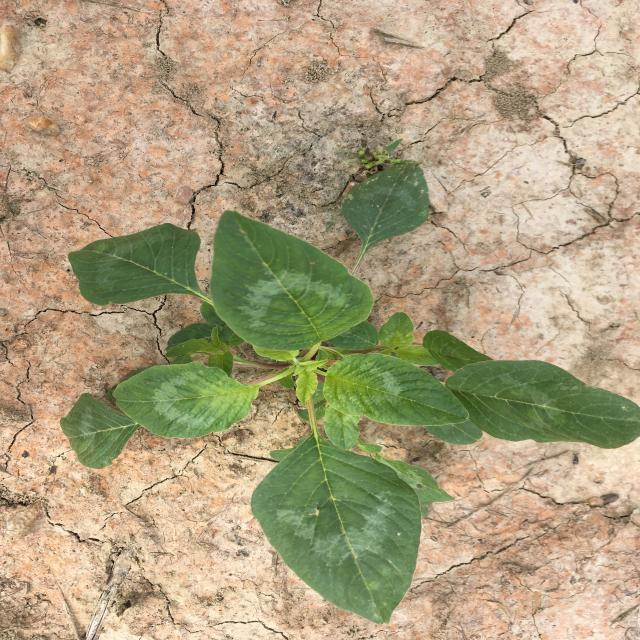PalmerAmaranth: (59, 160, 640, 624)
